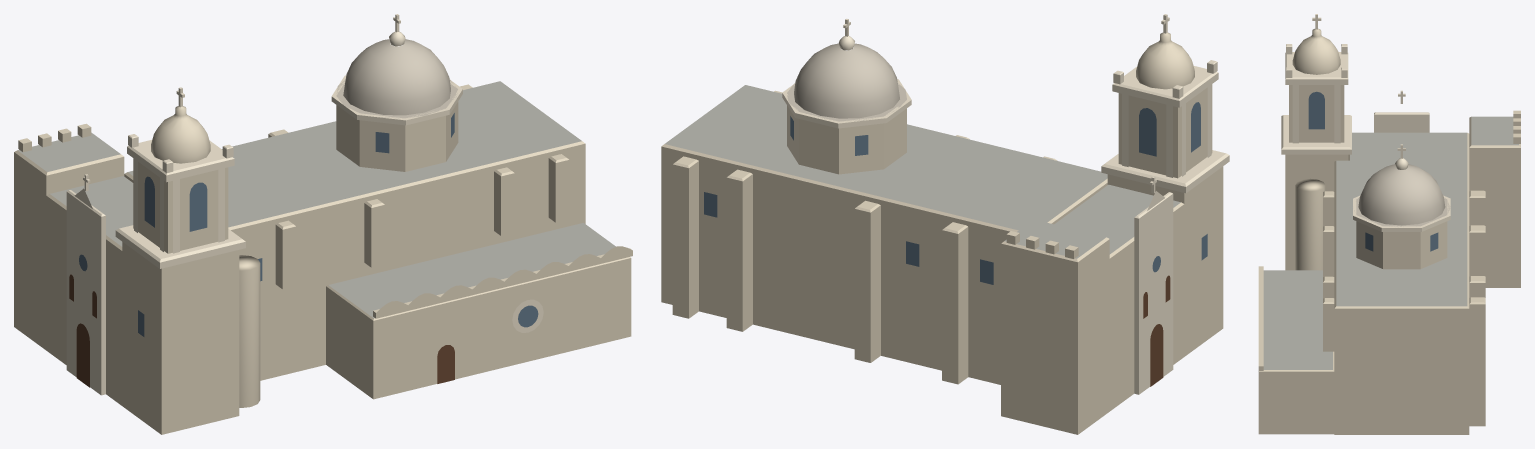
The model's file is sat-mission-san-jose.glb.
3 views of the same model, side by side, from view 1: azimuth 30°, elevation 25°; view 2: azimuth 150°, elevation 25°; view 3: azimuth 270°, elevation 25° (orthographic). The views are drawn at different scales.
Parts seen in each view (by area): view 1: Mission San José; view 2: Mission San José; view 3: Mission San José.
Part boxes in pixels (box(x1,y1,x2,y2)): Mission San José: box(14, 14, 632, 434); Mission San José: box(661, 14, 1229, 434); Mission San José: box(1258, 14, 1520, 434).
Bounding box in the file's own units: 33.7 × 22.6 × 20.86.
